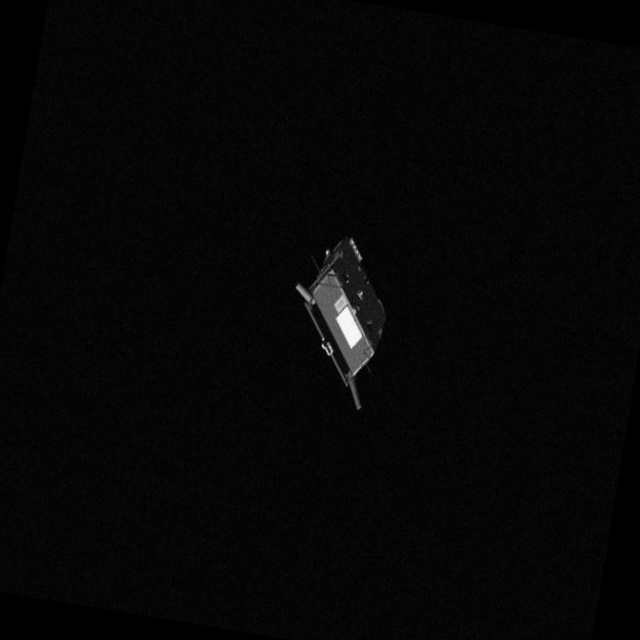medium_debris: (281, 227, 409, 406)
